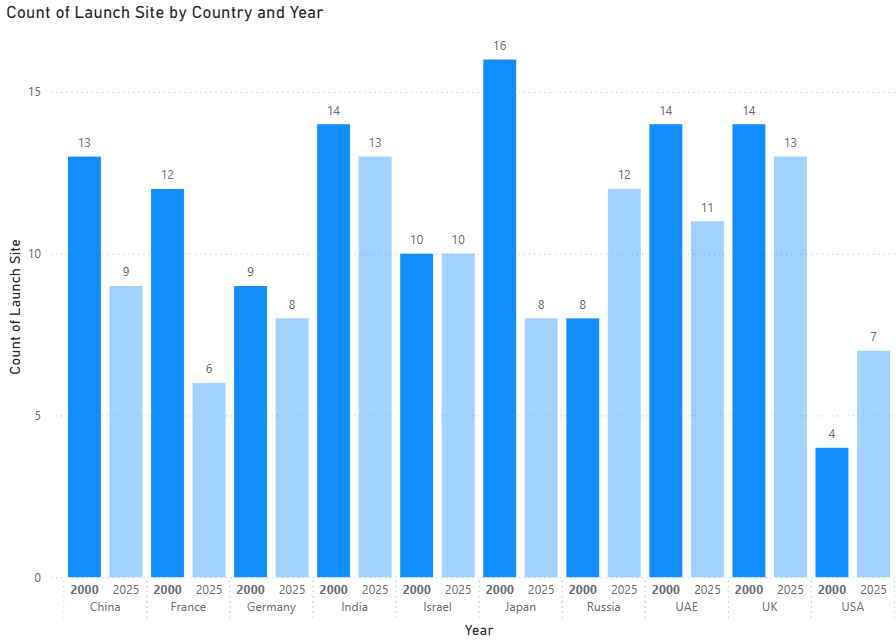

The page's visual inventory and layout, read from the dashboard file:
{"tool":"powerbi","page":{"name":"Page 2","canvas":[1280,720],"ordinal":1},"visuals":[{"type":"clusteredColumnChart","fields":{"Y":["CountNonNull(SpaceDataClean.Launch Site)"],"Category":["SpaceDataClean.Country","SpaceDataClean.Year"]},"box":[196.5,61.3,886.1,623.5],"z":0}]}

Visuals, with their boxes on the page's 1280x720 design canvas (x1, y1, x2, y2). These are canvas units, not pixel positions in the 896x643 screenshot, which may show the page scaled, cropped or inside an application window:
clusteredColumnChart - CountNonNull(SpaceDataClean.Launch Site) x SpaceDataClean.Country: locate(196, 61, 1083, 685)
